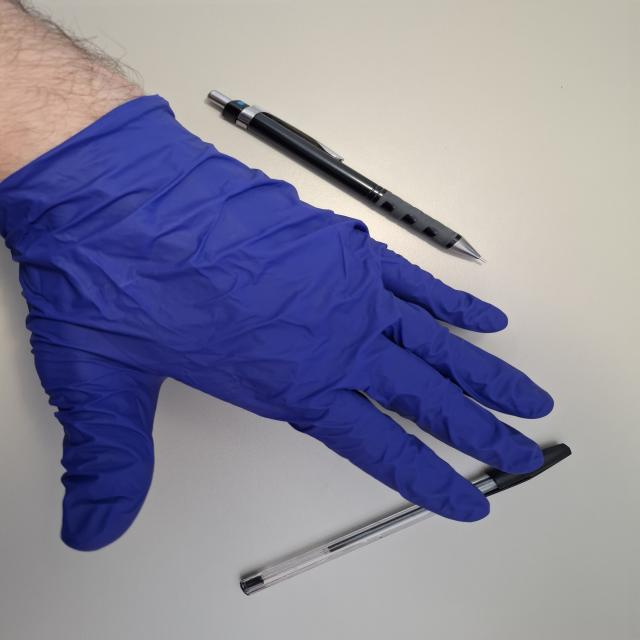glove_on: (0, 99, 559, 555)
